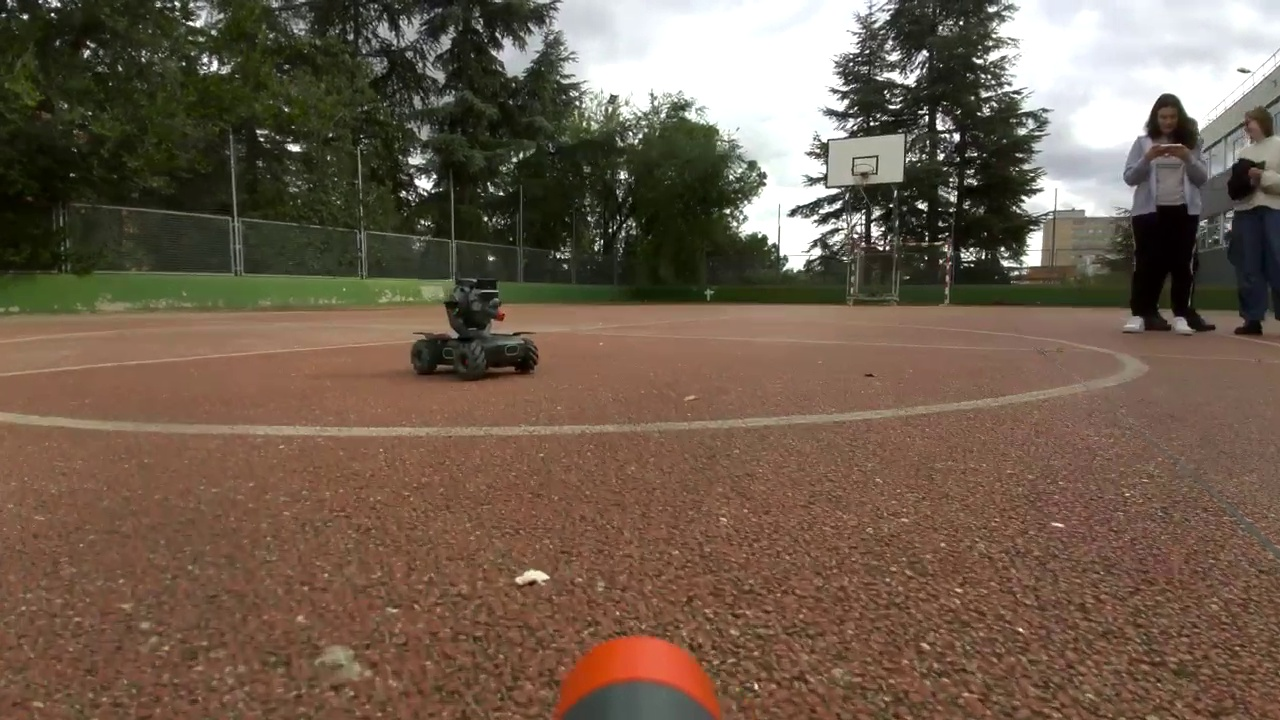robot: (410, 278, 537, 379)
